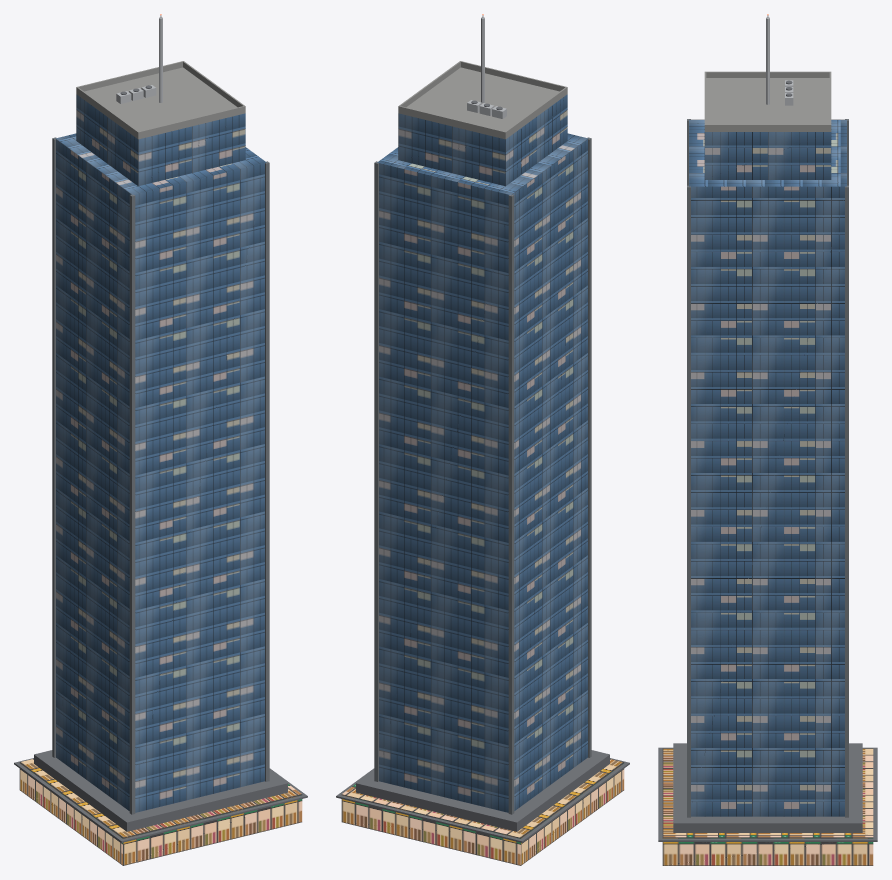
Rendered from tower_glass_blue.glb.
3 renders of one model, left to right at view 1: azimuth 30°, elevation 25°; view 2: azimuth 150°, elevation 25°; view 3: azimuth 270°, elevation 25°, orthographic.
Visible parts, largest first — view 1: tower_glass_blue; view 2: tower_glass_blue; view 3: tower_glass_blue.
Part boxes in pixels (x1=…): tower_glass_blue: x1=14, y1=14, x2=307, y2=865; tower_glass_blue: x1=336, y1=14, x2=629, y2=865; tower_glass_blue: x1=658, y1=14, x2=877, y2=865.
Size of the model in its own units: 41.6 by 169 by 41.6.
Materials: 7 (2 with a texture image).
